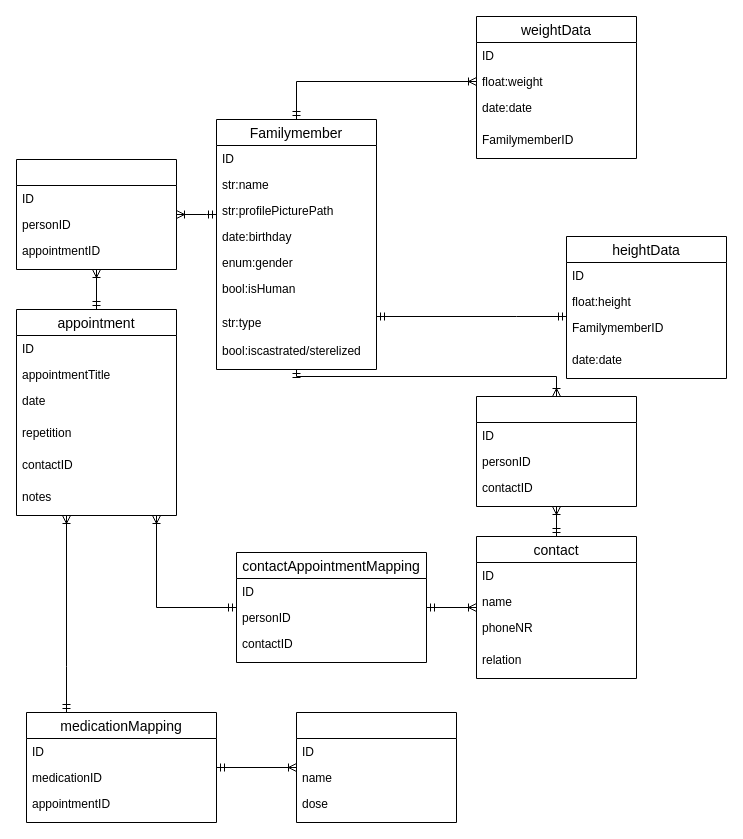
The diagram is 743 pixels wide and 839 high, and some of its shapes have lost their labels. Each missing label, with the box of its shape:
appointmentMapping: (16, 158, 176, 270)
contactMapping: (476, 396, 636, 506)
medication: (296, 712, 456, 822)
